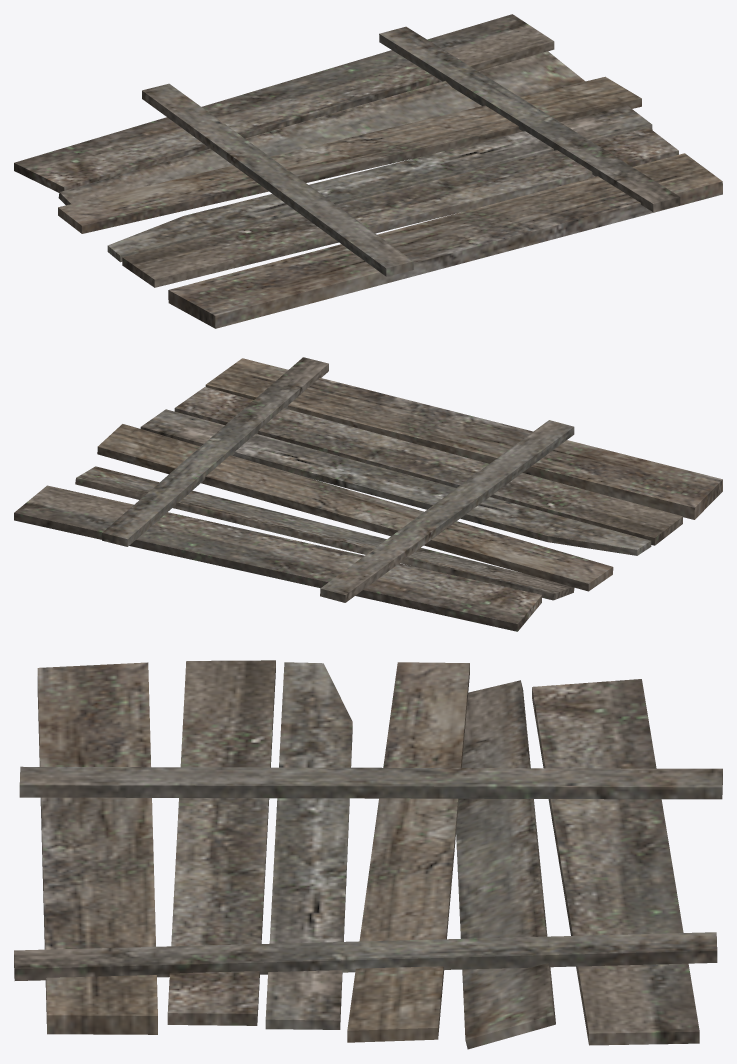
File: props_debris_wooden_01.fbx
The picture shows the model from 3 angles, top to bottom: view 1: azimuth 30°, elevation 25°; view 2: azimuth 150°, elevation 25°; view 3: azimuth 270°, elevation 25°; orthographic projection. The views are drawn at different scales.
Visible parts, largest first — view 1: props_debris_wooden_01; view 2: props_debris_wooden_01; view 3: props_debris_wooden_01.
Part boxes in pixels (x1,y1,x2,y2): props_debris_wooden_01: (14,14,722,328); props_debris_wooden_01: (14,357,722,631); props_debris_wooden_01: (14,660,722,1049).
Bounding box in the file's own units: 145 × 8.28 × 114.
